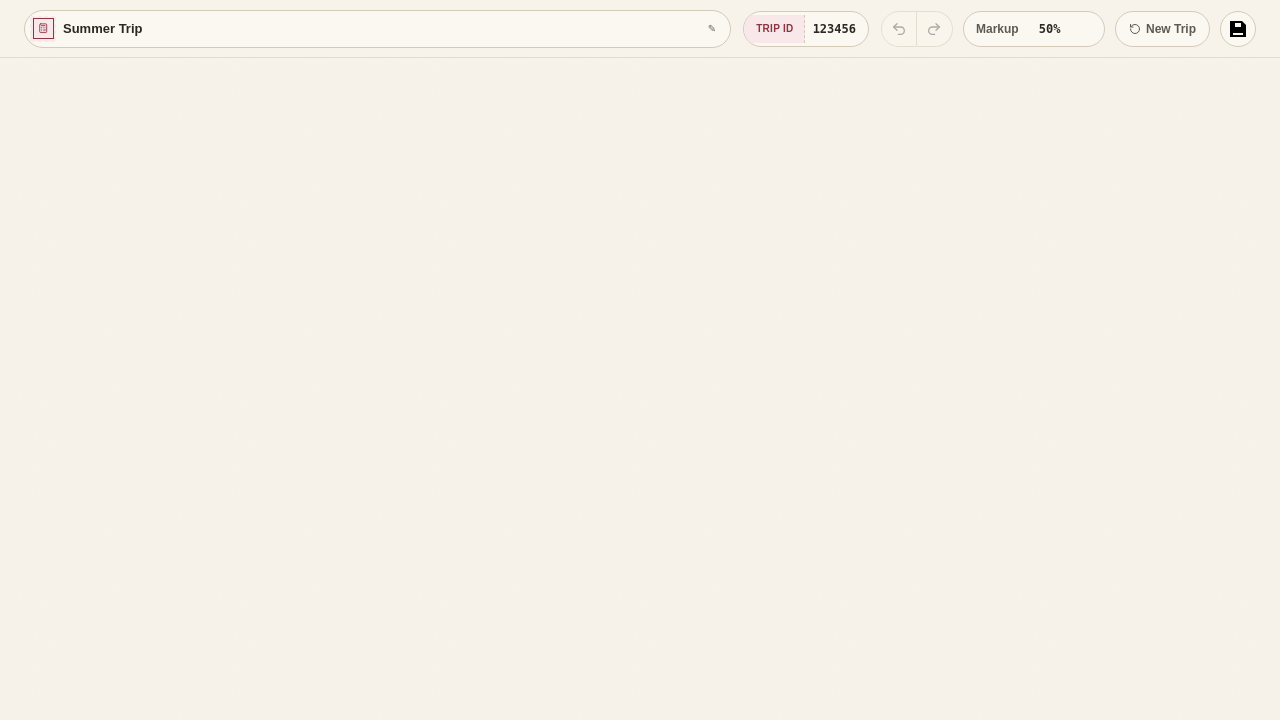
Test: TripToolbar › offers Save & Start New Trip for trips without a matching save and opens only the save manager
This screenshot has width=1280, height=720.
Step 1. Click the button with aria-label "Start new trip" → x=1162, y=28, box [1115,10,1210,46]
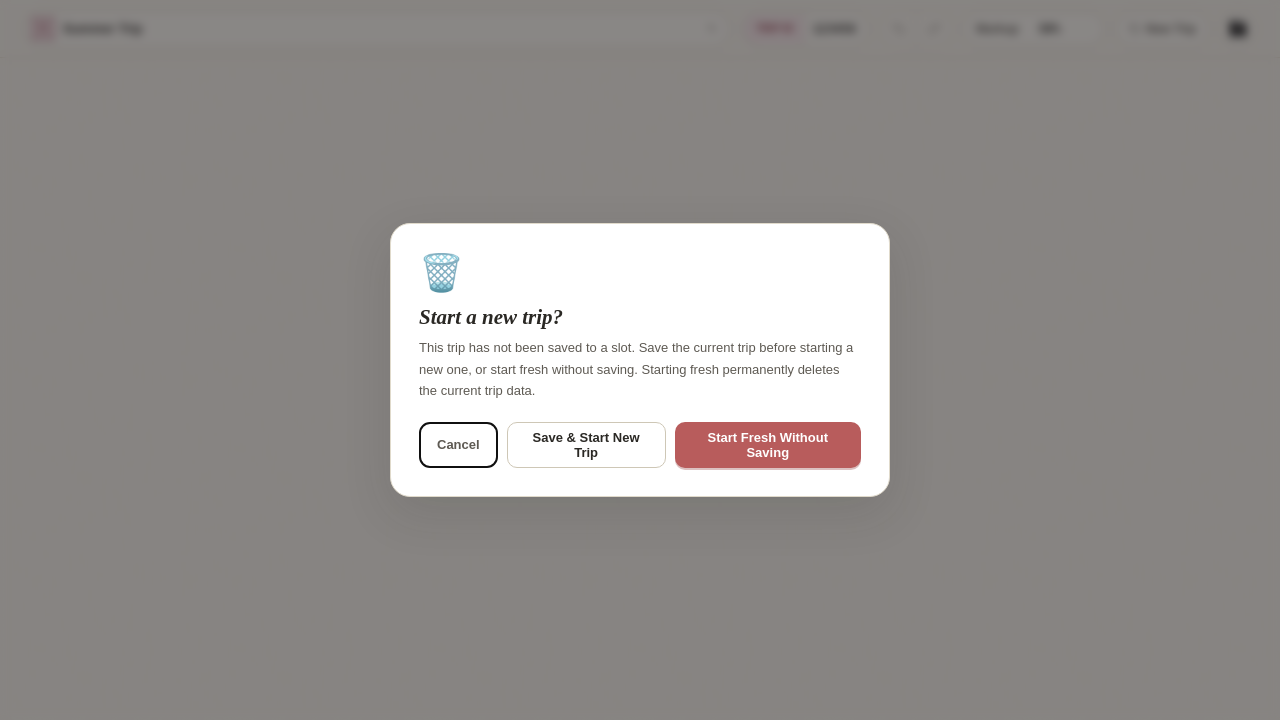
Check: the dialog "Start a new trip?" is shown, box [390,223,890,497]
Check: the button "Save & Start New Trip" is shown
Check: the button "Start Fresh Without Saving" is shown, box [674,422,861,468]
Step 2. Click the button "Save & Start New Trip" → x=586, y=445, box [507,422,666,468]
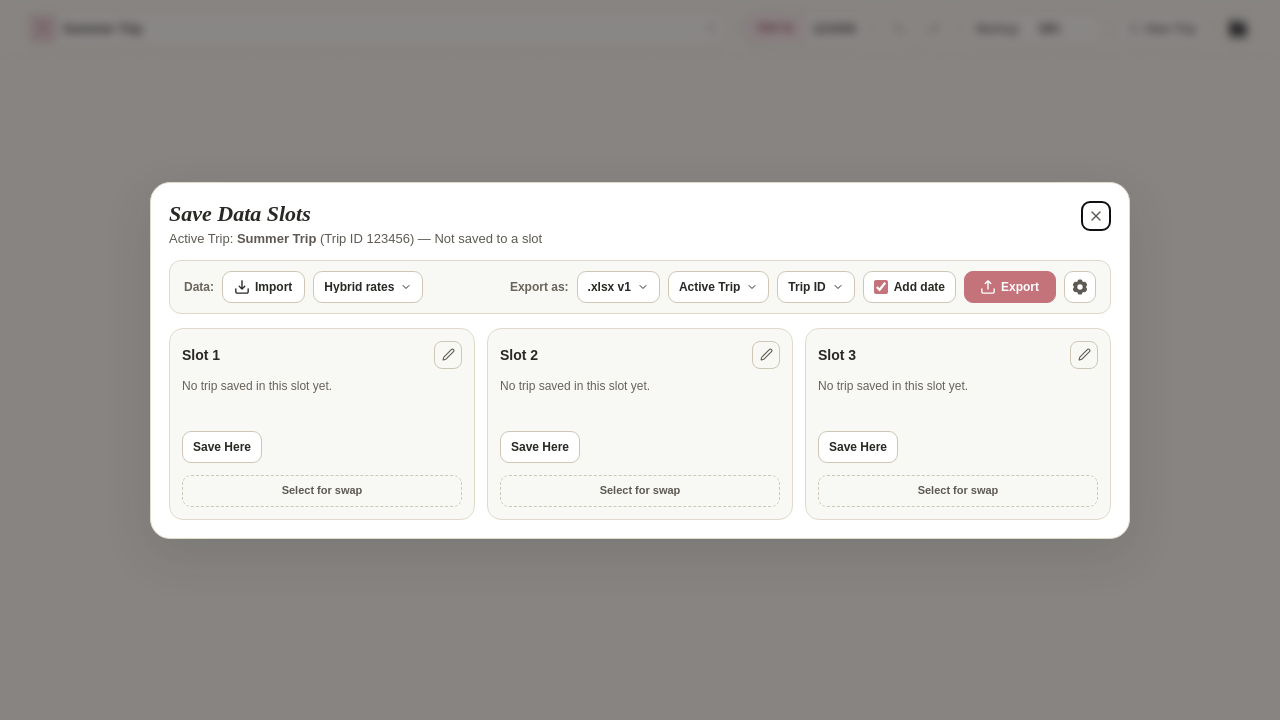
Check: the text "Start a new trip?" is gone
Check: the dialog "Save Data Slots" is shown, box [150,182,1130,538]
